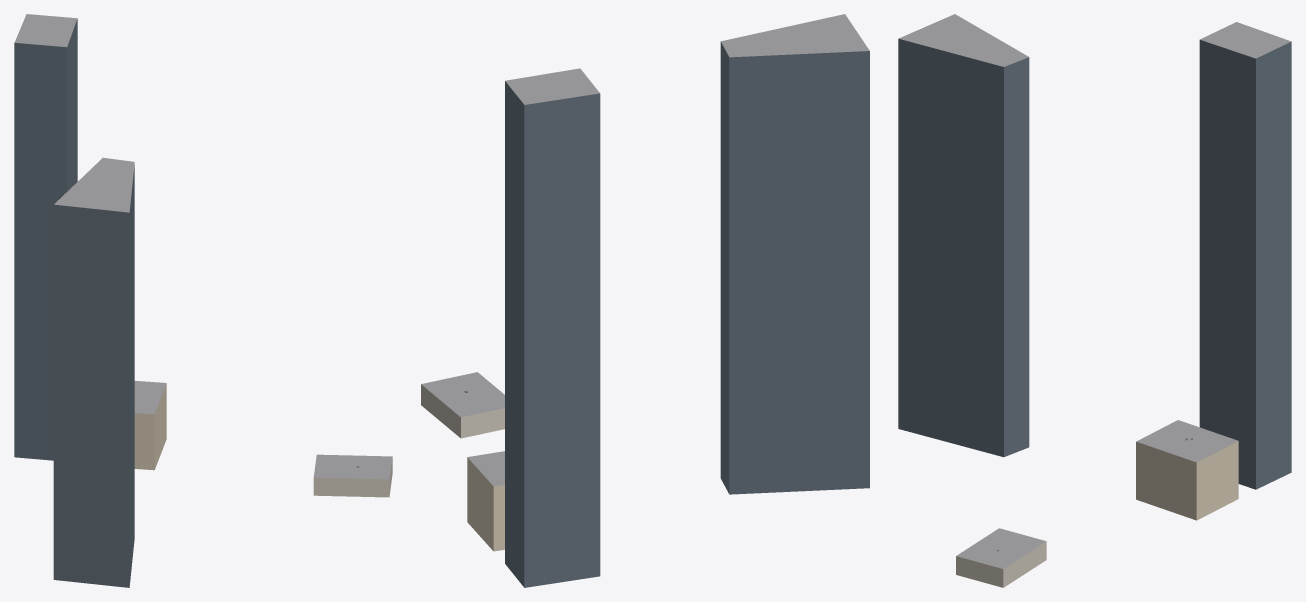
File: building_-5_2.glb
3 renders of one model, left to right at view 1: azimuth 30°, elevation 25°; view 2: azimuth 150°, elevation 25°; view 3: azimuth 270°, elevation 25°, orthographic. The views are drawn at different scales.
Parts seen in each view (by area): view 1: glass_dark, roof, sandstone, concrete_warm; view 2: glass_dark, roof, sandstone, concrete_warm; view 3: glass_dark, roof, sandstone, concrete_warm.
Boxes of the visible parts, x1=… form: glass_dark: x1=14, y1=19, x2=134, y2=587; roof: x1=14, y1=14, x2=392, y2=479; sandstone: x1=134, y1=384, x2=166, y2=470; concrete_warm: x1=313, y1=456, x2=392, y2=497; glass_dark: x1=505, y1=41, x2=869, y2=587; roof: x1=421, y1=14, x2=869, y2=486; sandstone: x1=467, y1=457, x2=504, y2=551; concrete_warm: x1=421, y1=384, x2=504, y2=438; glass_dark: x1=898, y1=38, x2=1291, y2=489; roof: x1=899, y1=14, x2=1291, y2=568; sandstone: x1=1136, y1=441, x2=1238, y2=520; concrete_warm: x1=956, y1=541, x2=1046, y2=587.
Bounding box in the file's own units: 260 × 285 × 236.
